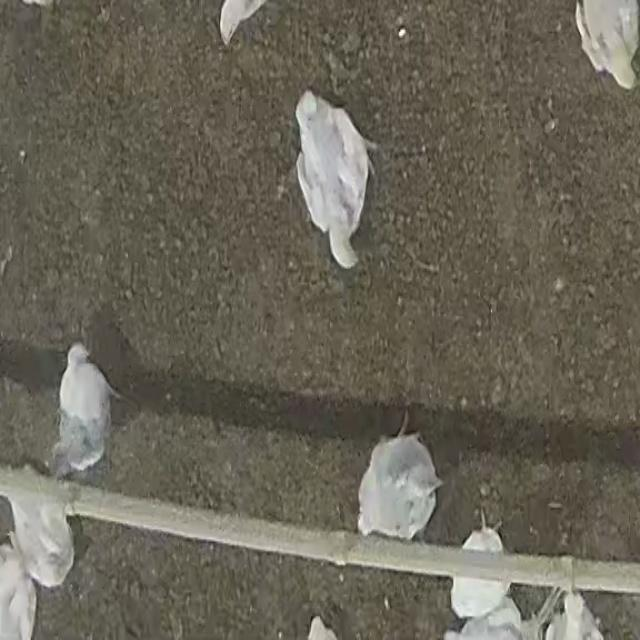chicken: (287, 85, 383, 273), (355, 416, 443, 542), (54, 341, 123, 477)
